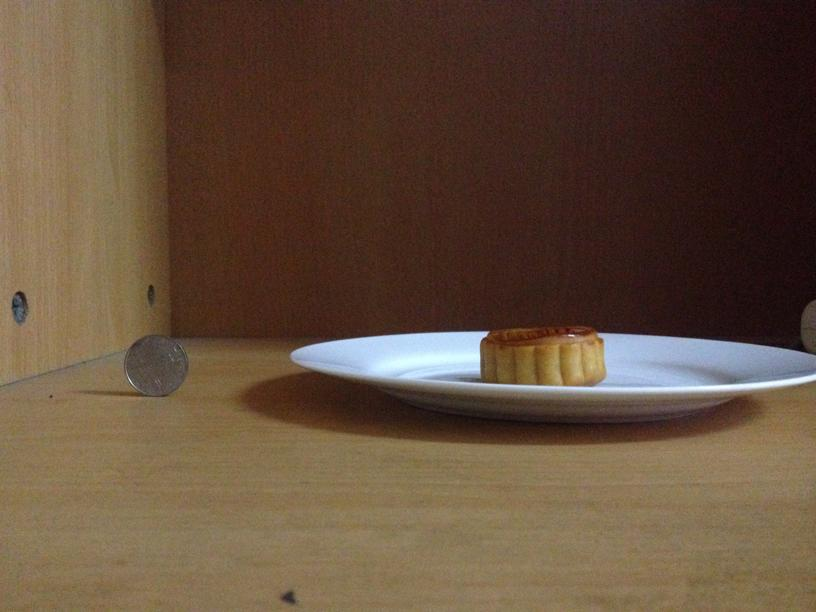coin: (124, 334, 187, 396)
mooncake: (474, 324, 607, 384)
